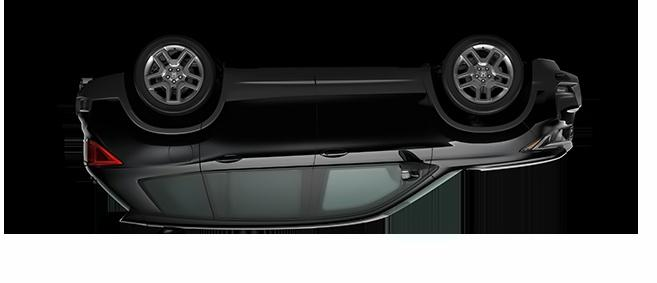Fender - -F-L-: (437, 120, 529, 164)
Fender - -R-L-: (123, 101, 217, 169)
Front bumper: (523, 53, 586, 138)
Headlight - -L-: (518, 123, 574, 156)
Passenger-s door - -F-L-: (302, 46, 440, 234)
Passenger-s door - -R-L-: (193, 47, 320, 235)
Rear bumper: (71, 70, 135, 145)
Rear light - -L-: (80, 139, 123, 171)
Side bumper - -L-: (221, 60, 436, 103)
